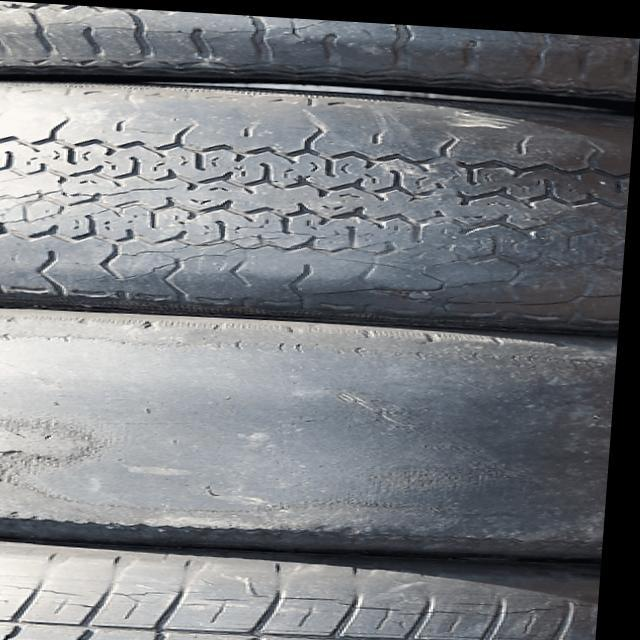Flat spots: (0, 352, 616, 531)
